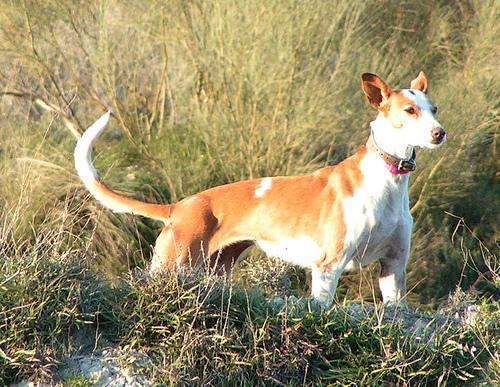Ibizan_hound: (72, 72, 449, 309)
